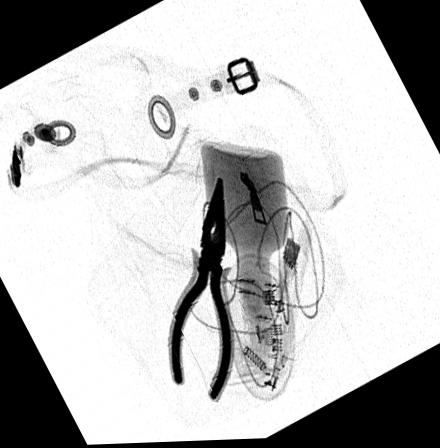Pliers: (166, 172, 234, 406)
